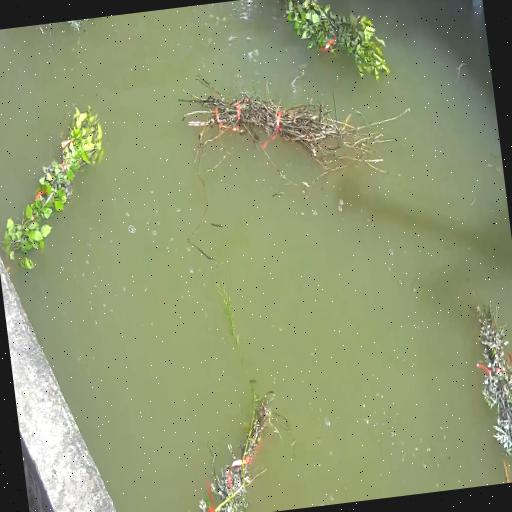twig: (179, 76, 409, 173), (199, 284, 281, 512), (3, 106, 104, 260), (286, 0, 390, 80), (200, 400, 271, 512), (477, 305, 512, 458)
